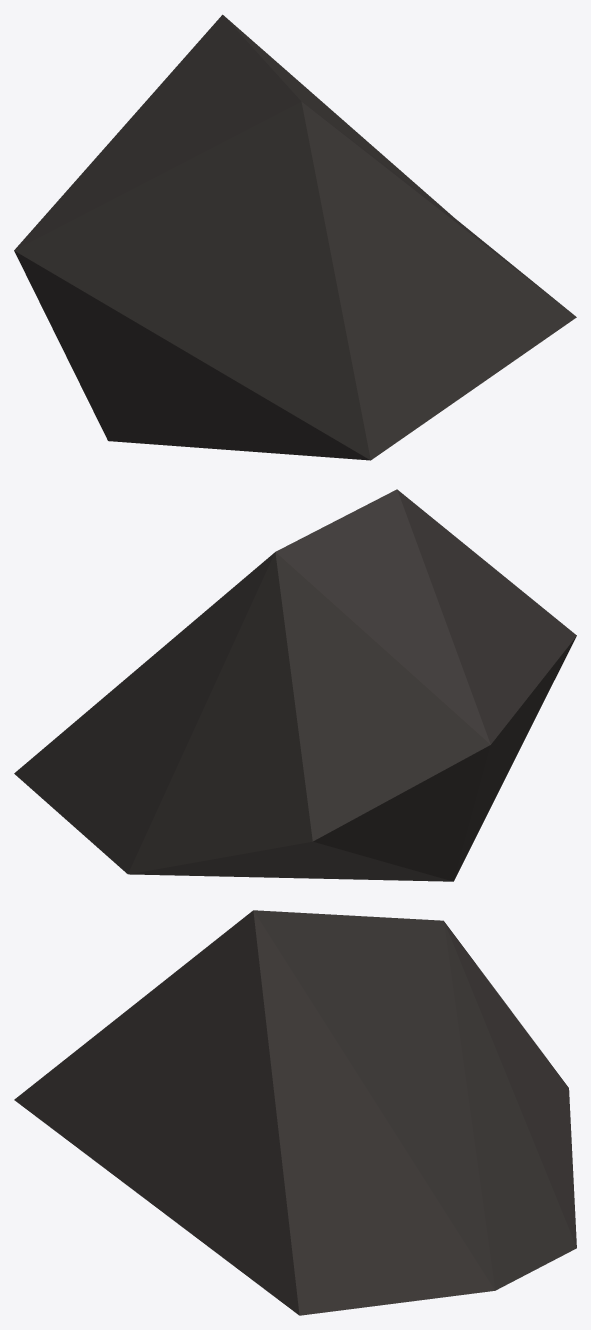
The model's file is Rock_Single_7_LOD_1.fbx.
3 views of the same model, one above another, from view 1: azimuth 30°, elevation 25°; view 2: azimuth 150°, elevation 25°; view 3: azimuth 270°, elevation 25° (orthographic). The views are drawn at different scales.
Parts seen in each view (by area): view 1: Group16343; view 2: Group16343; view 3: Group16343.
Part boxes in pixels (bbox=[...]): Group16343: bbox=[14, 14, 576, 460]; Group16343: bbox=[14, 489, 576, 881]; Group16343: bbox=[14, 910, 576, 1315].
Bounding box in the file's own units: 0.7142 × 0.4916 × 0.7866.
